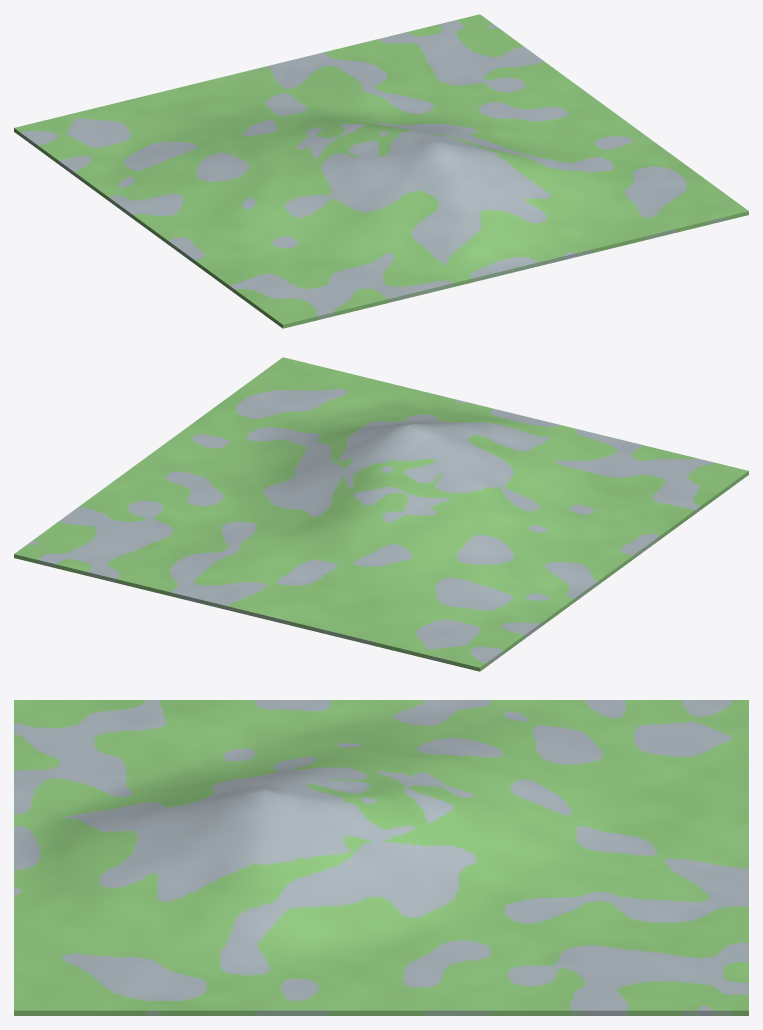
Rendered from Grass_RockyGround_03.obj.
3 views of the same model, one above another, from view 1: azimuth 30°, elevation 25°; view 2: azimuth 150°, elevation 25°; view 3: azimuth 270°, elevation 25° (orthographic). The views are drawn at different scales.
Size of the model in its own units: 10 by 1.16 by 10.
Materials: 1 (1 with a texture image).
